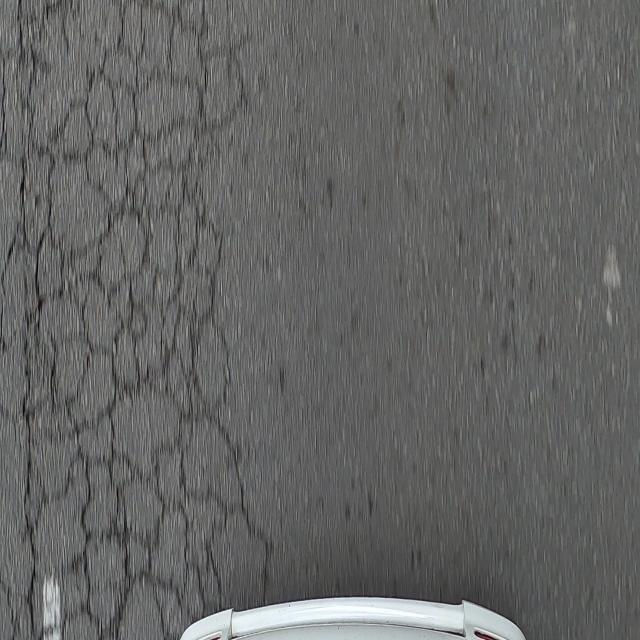Retak-Buaya: (0, 0, 270, 640)
